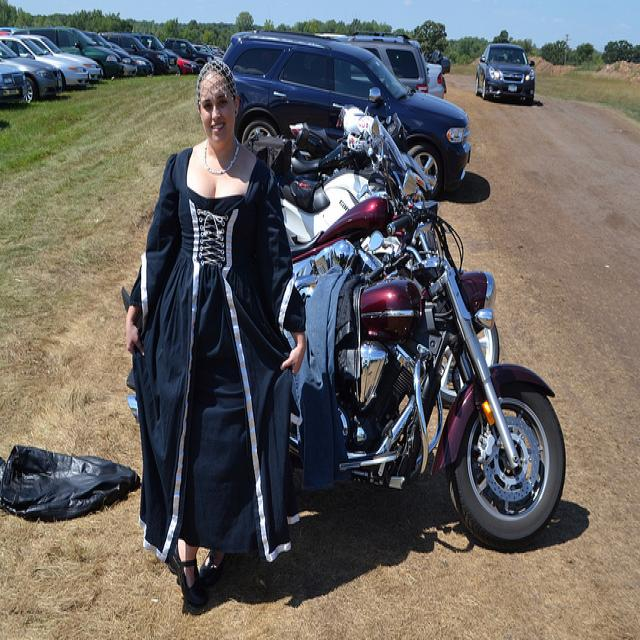motor: (294, 117, 574, 553), (243, 101, 375, 230), (284, 134, 402, 276), (294, 142, 354, 177)
